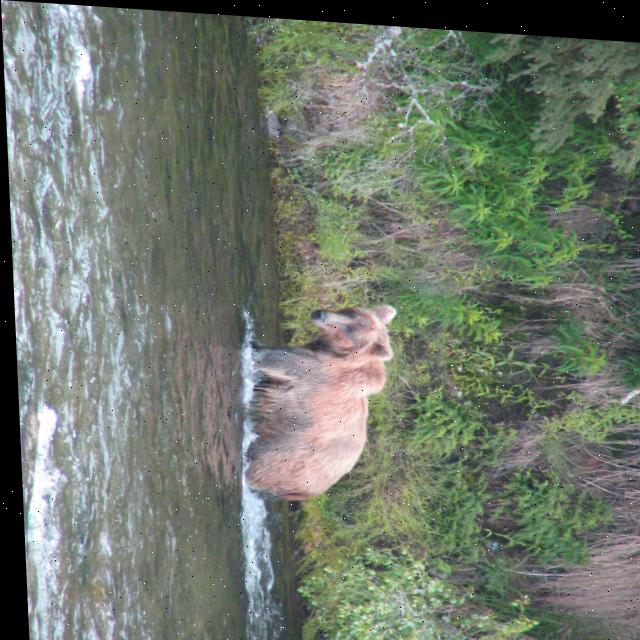bear face: (235, 289, 400, 502)
